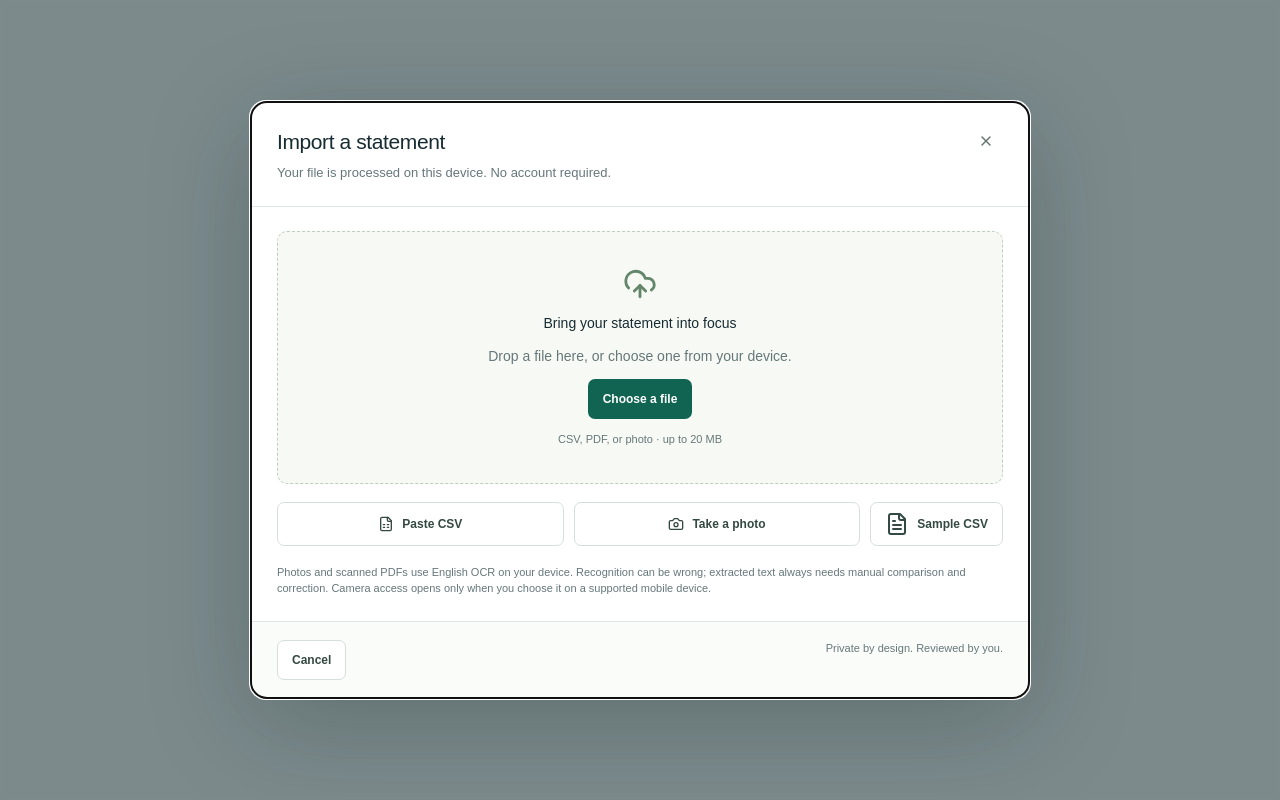
Test: ImportWizard › rejects invalid CSV preparation: Include a header row and at least one transaction row.
Click the button "Paste CSV" at (420, 524), box [277, 502, 564, 546]
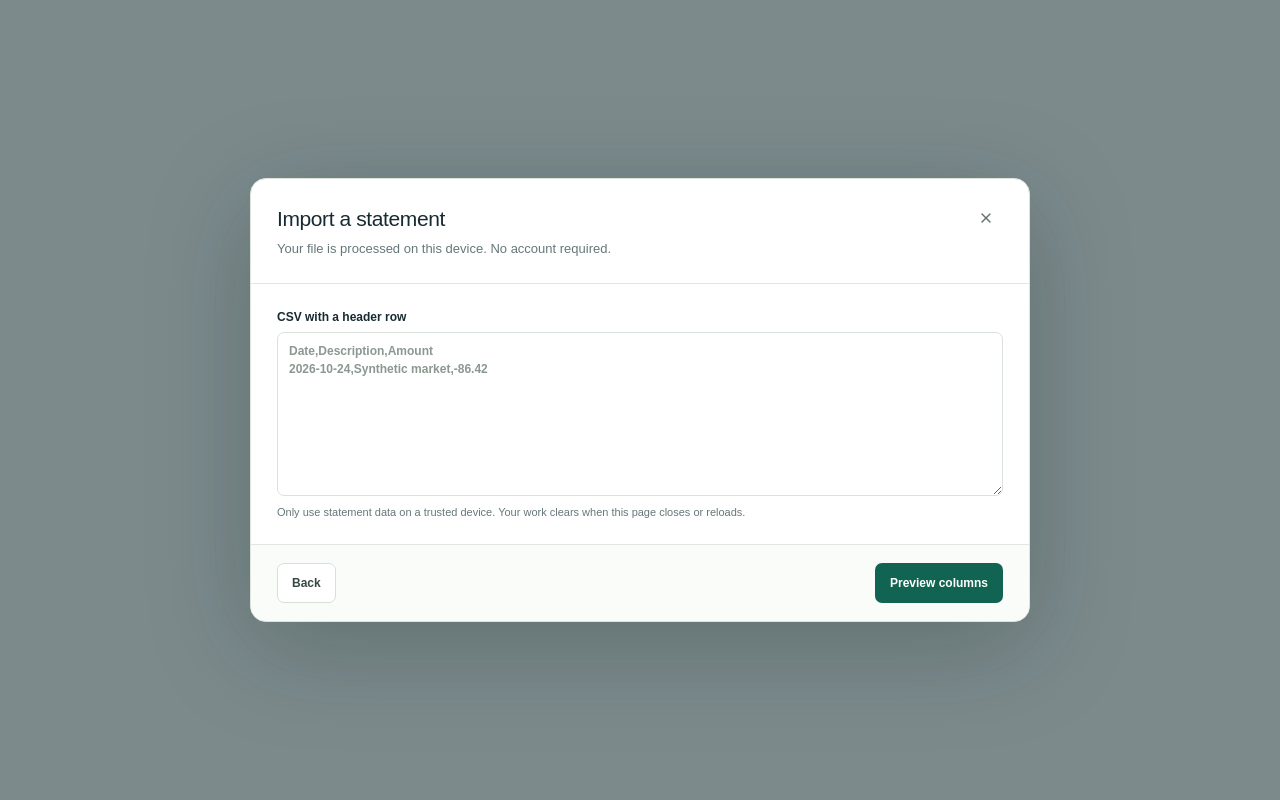
Click the text box labelled "CSV with a header row" at (640, 414), box [277, 332, 1003, 496]
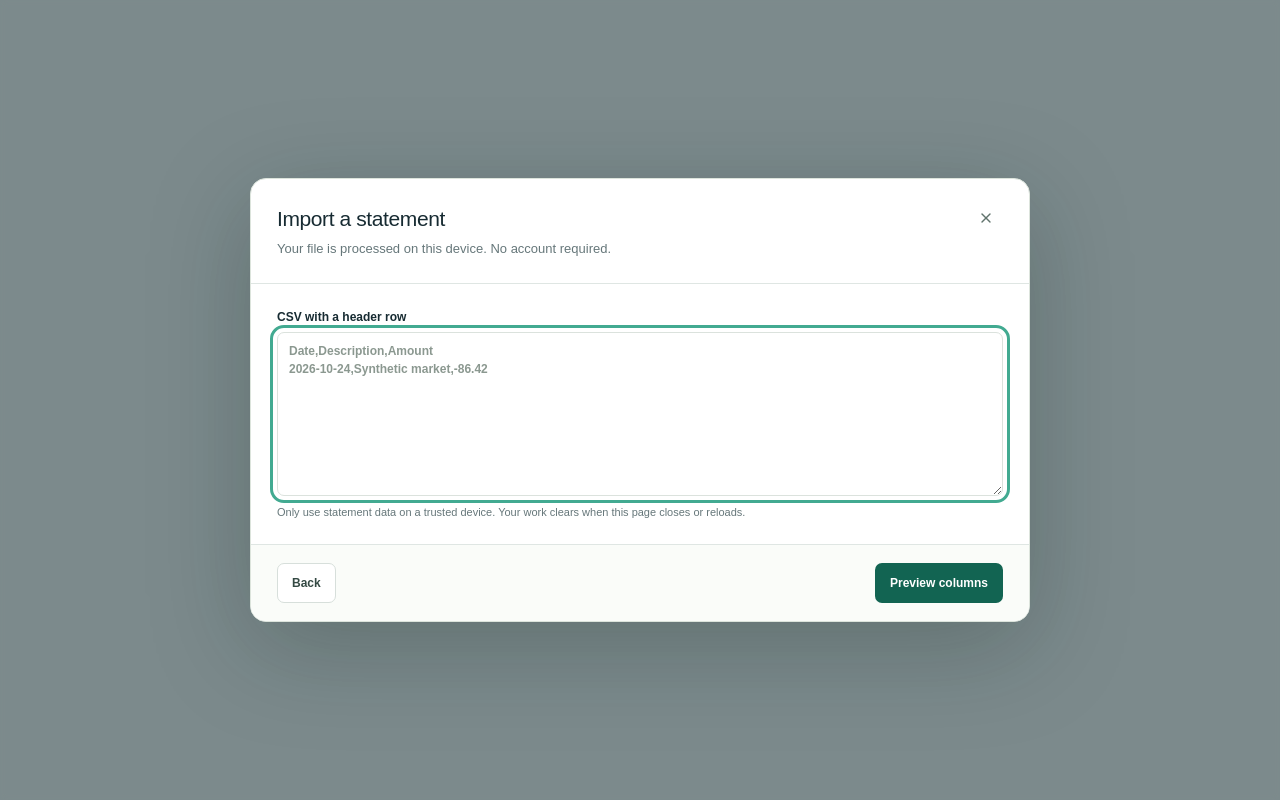
Type keys "Date,Description,Amount"
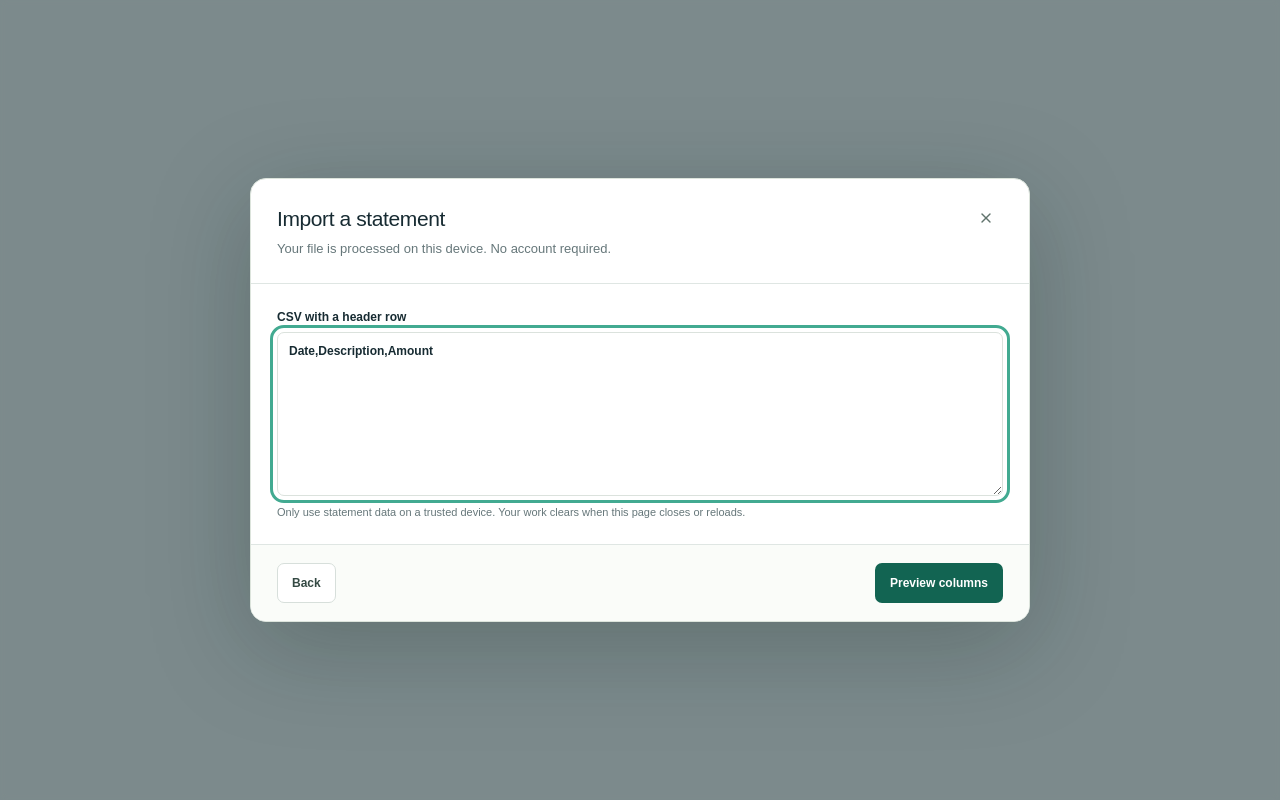
Click the button "Preview columns" at (939, 583), box [875, 563, 1003, 603]
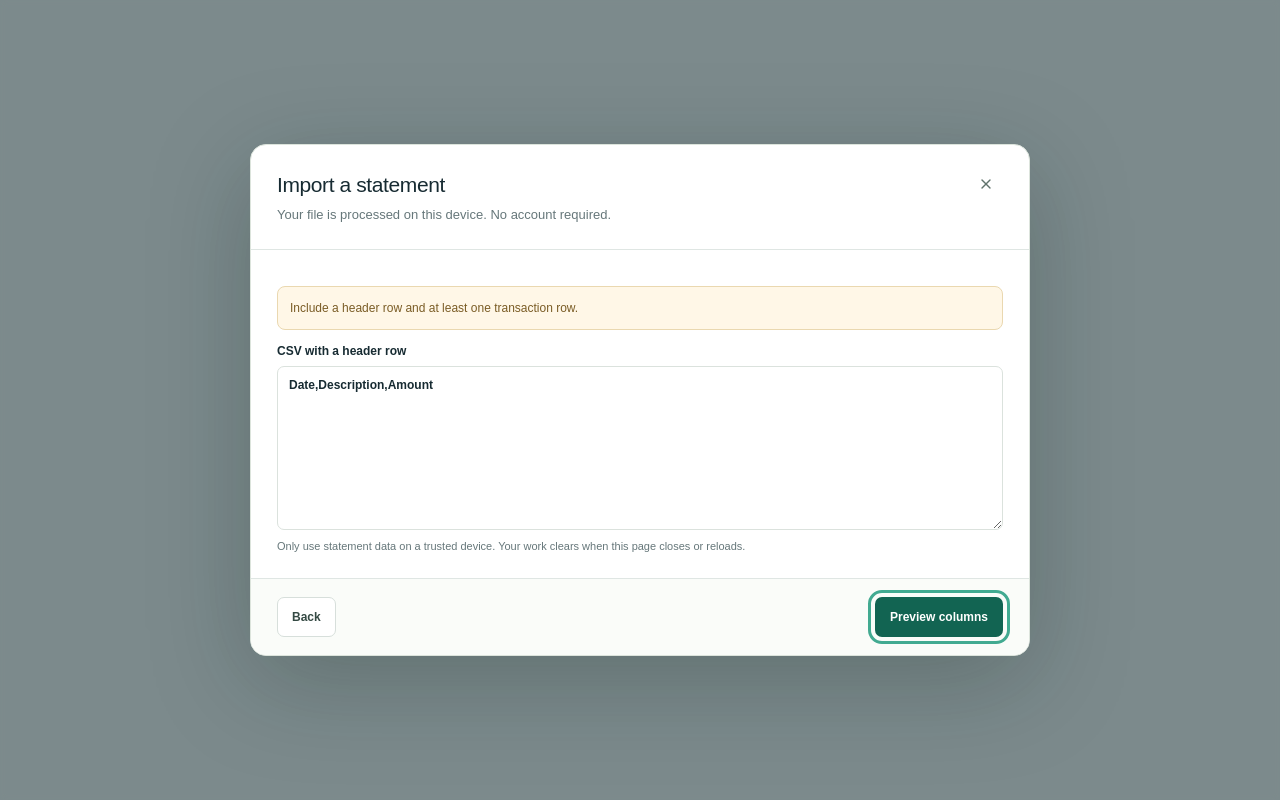
Expected: the text box labelled "CSV with a header row" holds "Date,Description,Amount", [277, 366, 1003, 530]
Expected: the message reads "Include a header row and at least one transaction row.", [290, 301, 578, 315]
